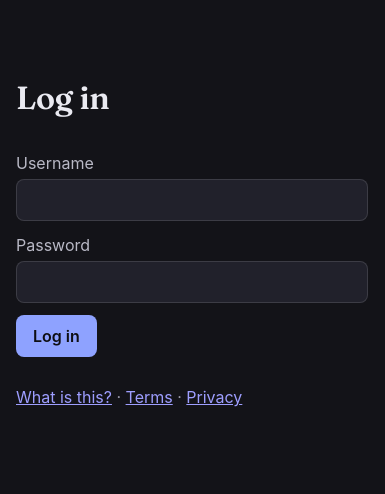
app shell + routing › uses a generic message for a non-Error login rejection
Expected: the heading "Log in" is shown, [16,78,110,118]
Type "dm" into the field labelled "Username" at {"x": 192, "y": 200}, box [16,179,368,221]
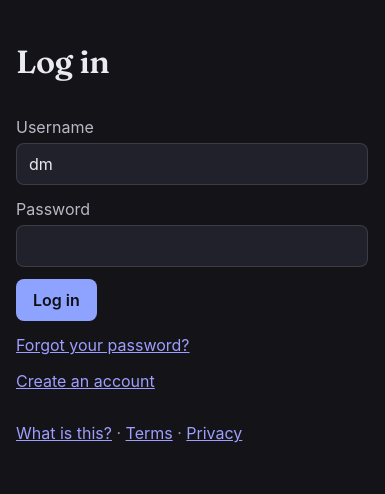
Type "nope" into the password field labelled "Password" at {"x": 192, "y": 246}, box [16,225,368,267]
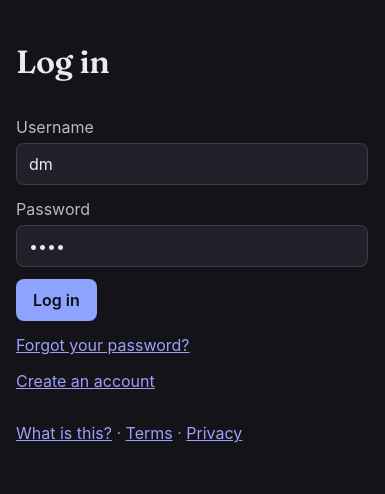
Click the button "Log in" at {"x": 56, "y": 300}, box [16,279,97,321]
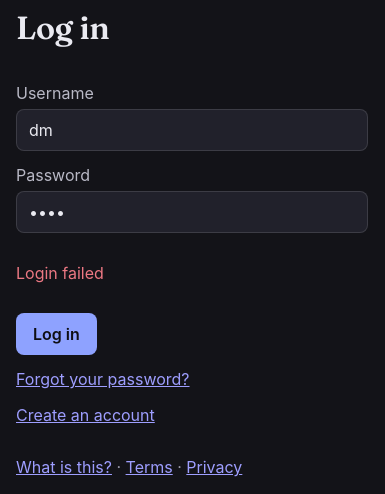
Expected: the message reads "Login failed", [16,263,104,283]
